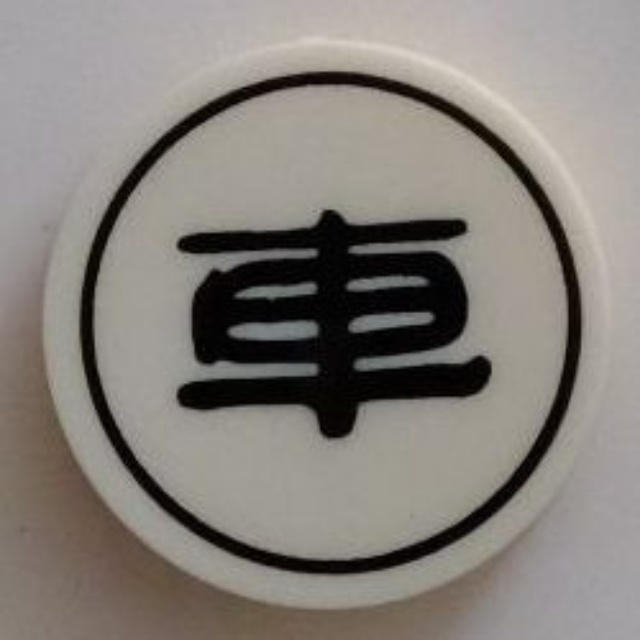black_xe: (35, 34, 623, 619)
